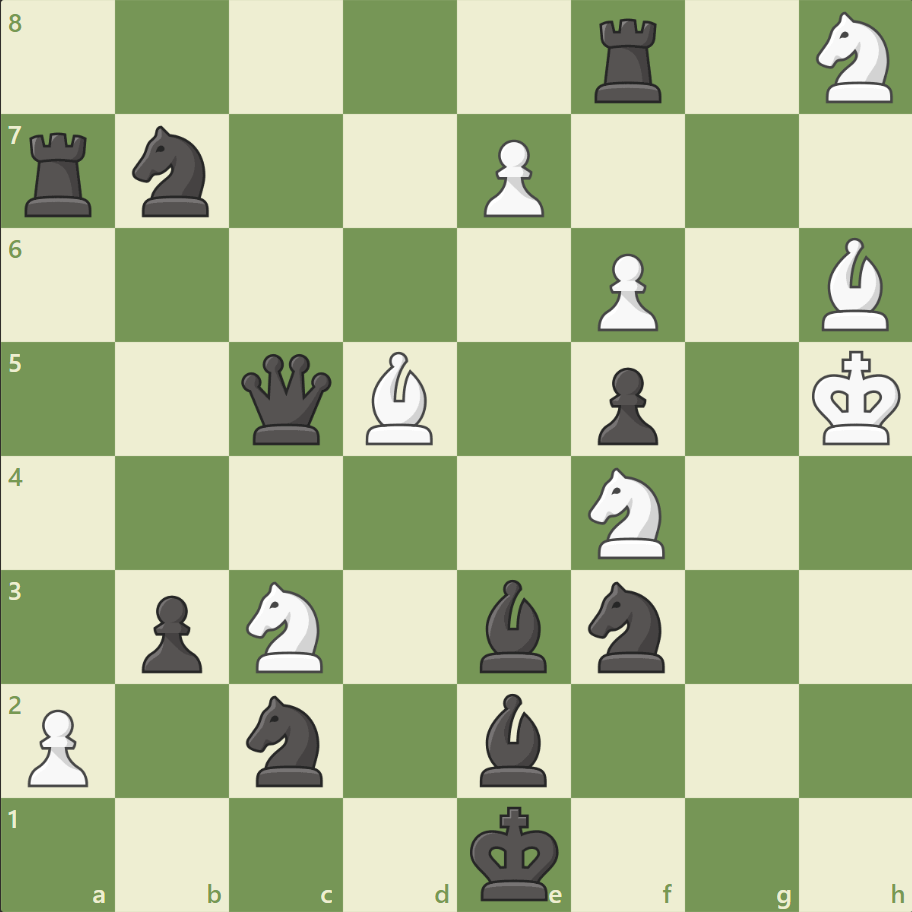B: (812, 233, 896, 336), (358, 347, 442, 449)
K: (806, 344, 906, 452)
N: (806, 7, 903, 110), (579, 461, 676, 564), (238, 575, 335, 677)
P: (474, 132, 549, 223), (20, 700, 95, 791), (588, 246, 662, 337)
b: (471, 687, 555, 790), (471, 574, 555, 676)
k: (465, 798, 565, 906)
n: (124, 121, 222, 223), (238, 688, 335, 791), (579, 575, 676, 677)
p: (133, 586, 208, 677), (588, 359, 662, 450)
q: (237, 349, 336, 449)
r: (587, 12, 670, 109), (19, 125, 102, 222)
